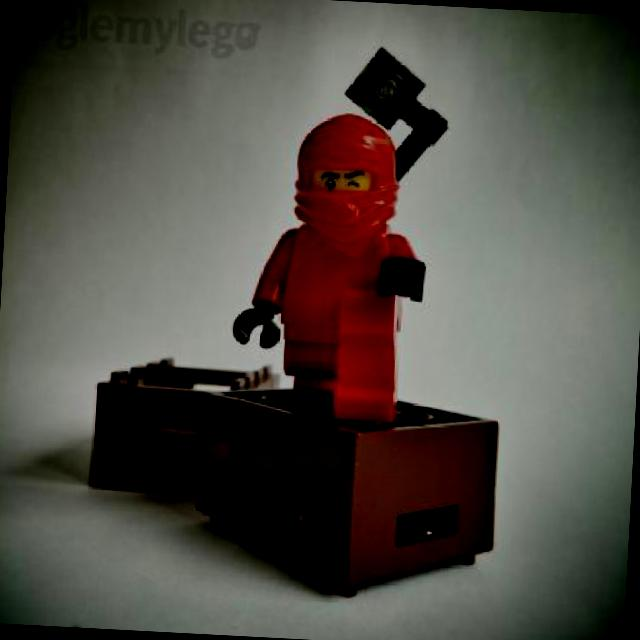Person: (228, 101, 431, 412)
